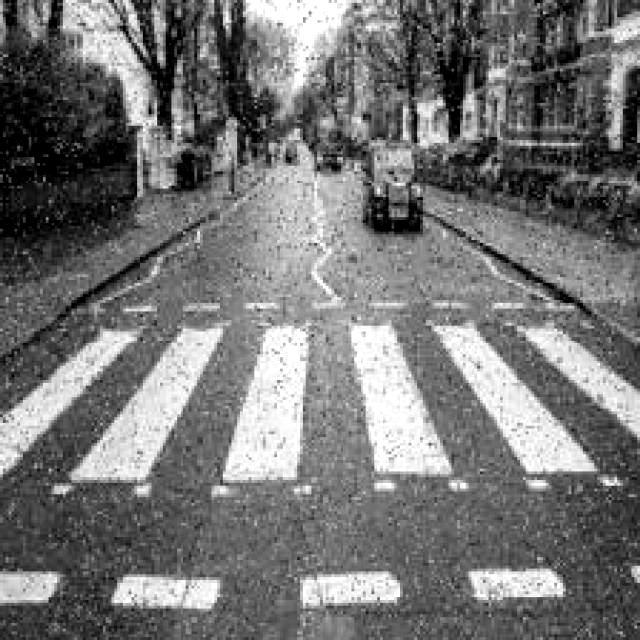crosswalk: (0, 315, 639, 499)
